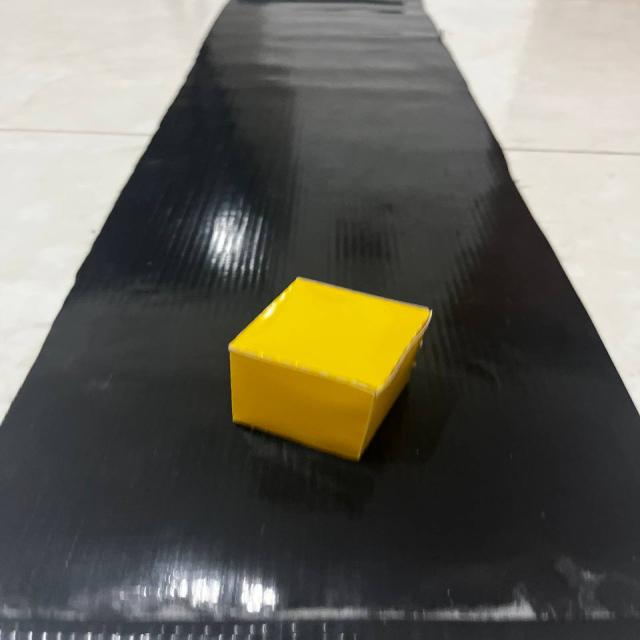Amarillo: (202, 264, 457, 474)
